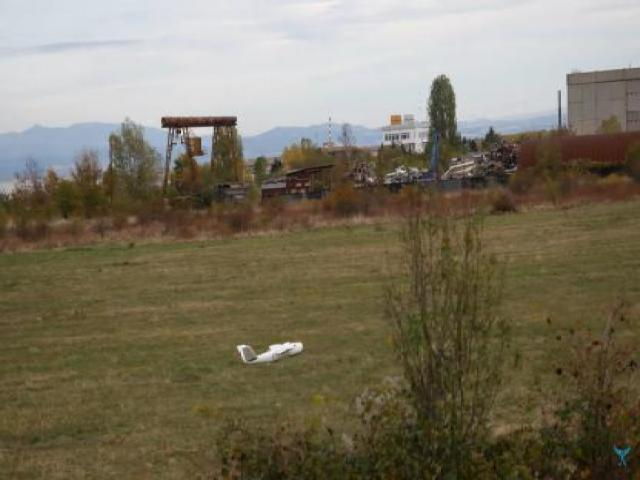uav: (232, 330, 310, 368)
